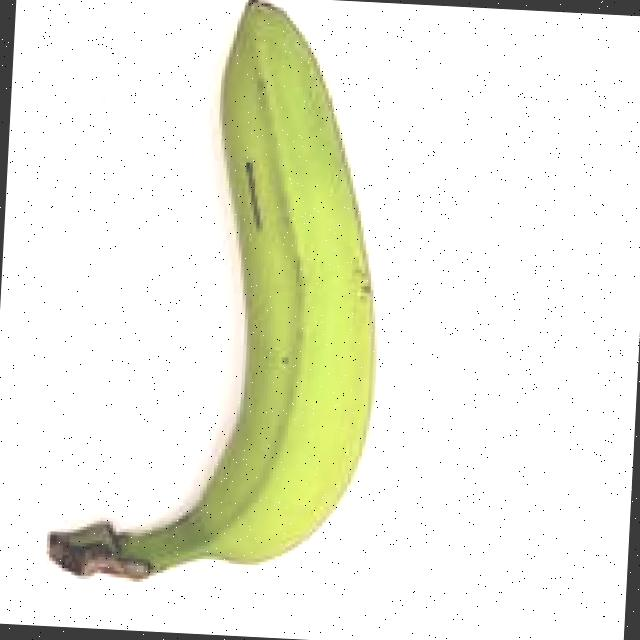Raw: (21, 0, 435, 618)
